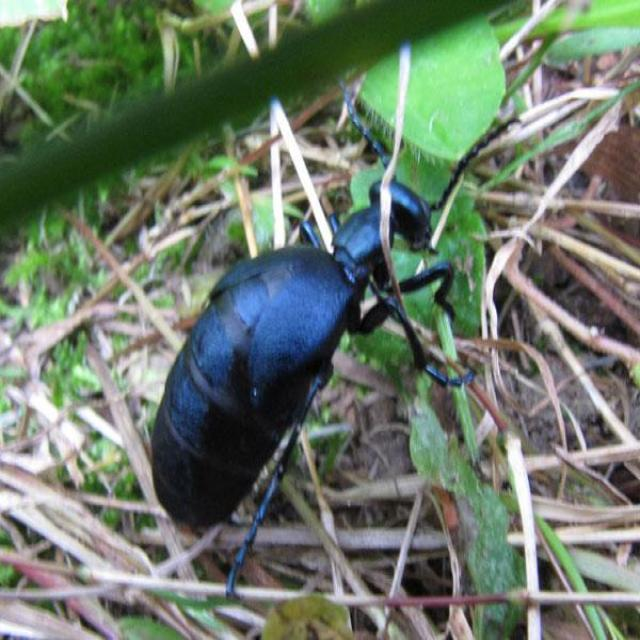BlisterBeetle-Adult-: (149, 129, 491, 536)
